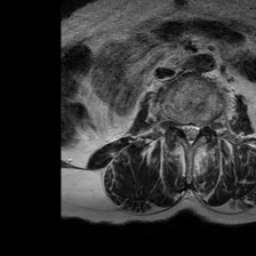CCS_normal: (186, 116, 193, 151)
LFS_stenosis: (200, 115, 208, 138)
LLS_normal: (193, 118, 200, 143)
RFS_severe_stenosis: (171, 115, 179, 137)
RLS_stenosis: (179, 118, 186, 140)
